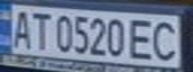0: (106, 16, 130, 58), (51, 11, 72, 53)
2: (87, 15, 109, 57)
5: (69, 12, 90, 55)
A: (6, 7, 33, 50)
C: (148, 18, 184, 62)
E: (127, 16, 160, 61)
T: (27, 8, 54, 51)
